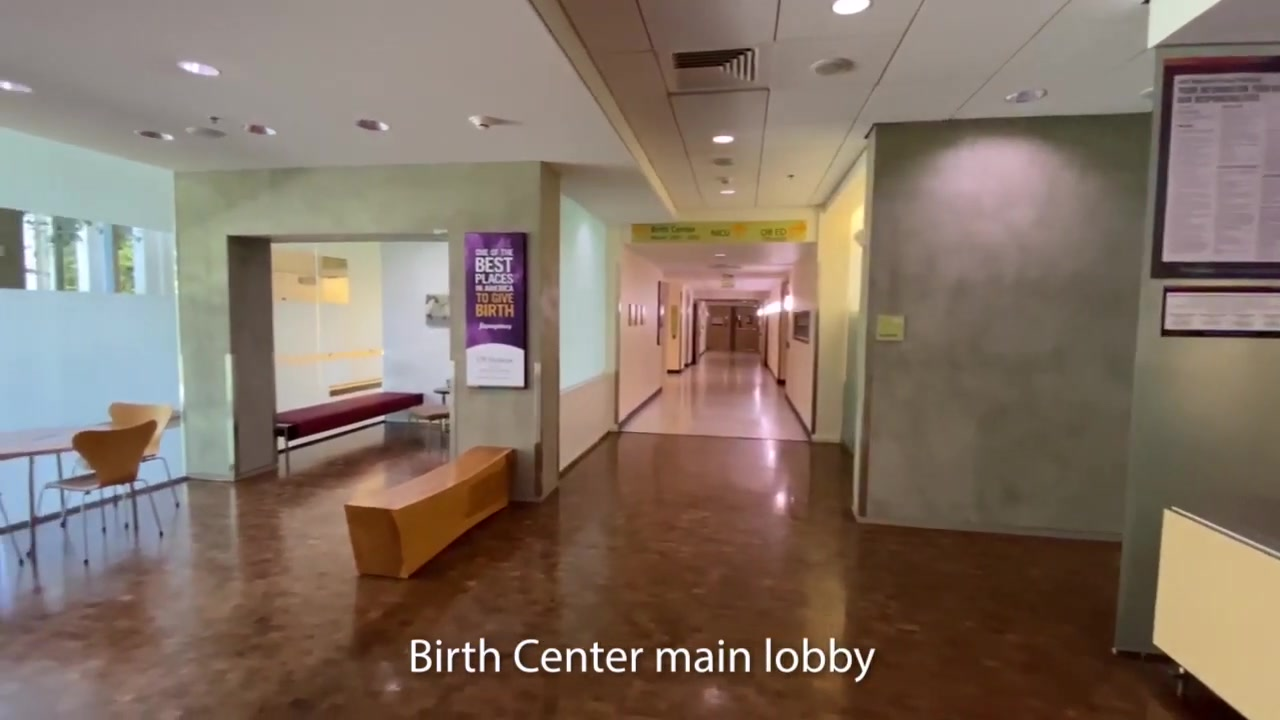chair: (342, 444, 520, 579), (25, 418, 162, 566), (61, 402, 180, 531), (406, 381, 453, 434)
countertop: (1163, 490, 1280, 564)
sofa: (274, 390, 424, 454)
table: (1, 422, 106, 565)
